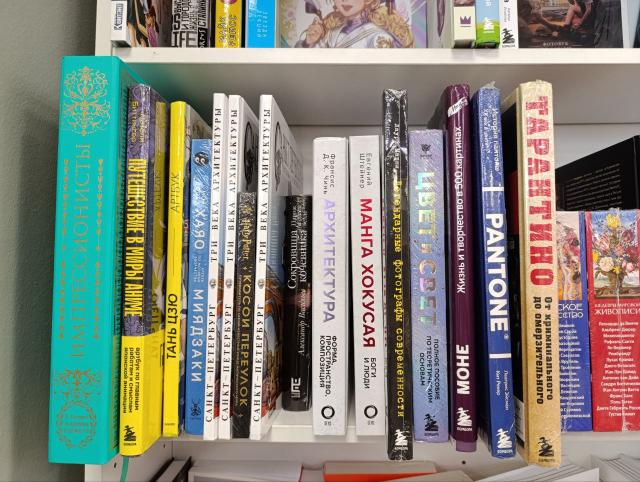book-s-spine: (47, 54, 121, 466), (518, 79, 561, 468), (477, 87, 517, 460), (118, 83, 152, 458), (410, 129, 449, 444), (348, 134, 386, 436), (384, 88, 414, 461), (311, 137, 348, 437), (448, 83, 477, 453), (249, 94, 273, 441), (184, 138, 212, 435), (217, 94, 241, 440), (162, 100, 186, 438), (203, 92, 225, 442), (281, 194, 313, 413), (232, 191, 257, 438)
